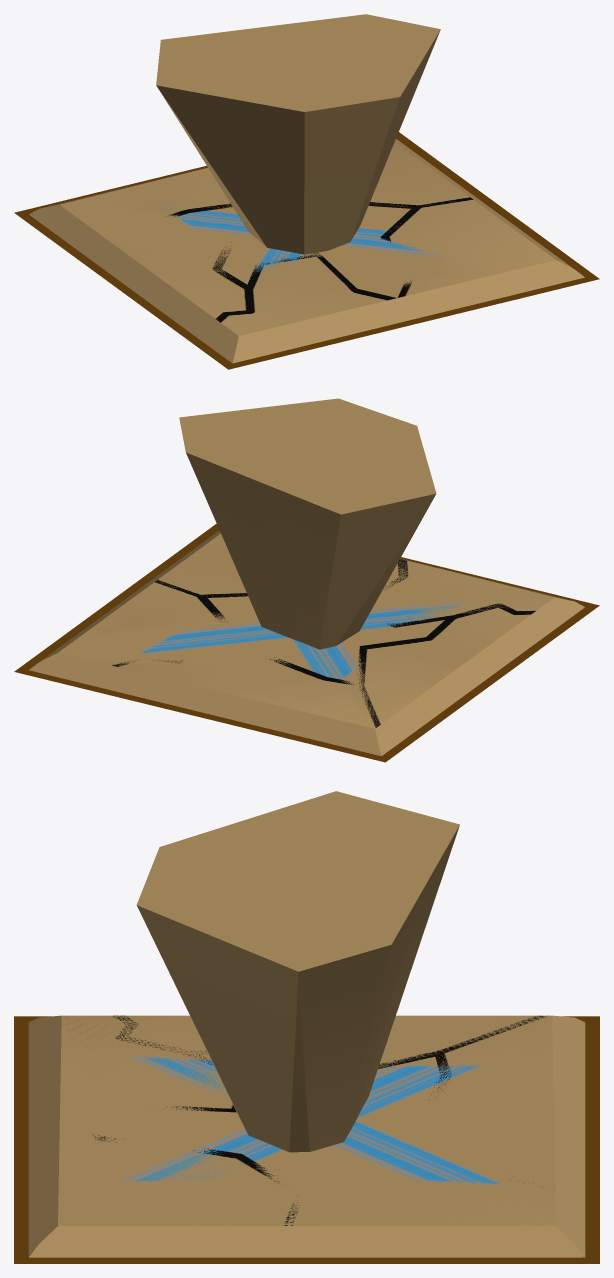
The model's file is 3D_trap_stalagmite.fbx.
The picture shows the model from 3 angles, top to bottom: view 1: azimuth 30°, elevation 25°; view 2: azimuth 150°, elevation 25°; view 3: azimuth 270°, elevation 25°; orthographic projection. The views are drawn at different scales.
Visible parts, largest first — view 1: SM_stalagmite_rock, SM_trap_stalagmite_base, SM_trap_stalagmite; view 2: SM_trap_stalagmite_base, SM_stalagmite_rock, SM_trap_stalagmite; view 3: SM_trap_stalagmite_base, SM_stalagmite_rock, SM_trap_stalagmite.
Part boxes in pixels (x1,y1,x2,y2): SM_stalagmite_rock: (156,14,440,254); SM_trap_stalagmite_base: (14,132,599,368); SM_trap_stalagmite: (23,132,555,369); SM_trap_stalagmite_base: (22,524,599,761); SM_stalagmite_rock: (179,398,436,649); SM_trap_stalagmite: (14,524,594,762); SM_trap_stalagmite_base: (14,1015,599,1263); SM_stalagmite_rock: (136,791,459,1152); SM_trap_stalagmite: (14,1015,599,1263).
Size of the model in its own units: 100 by 70.9 by 100.
2 materials, 2 textured.
